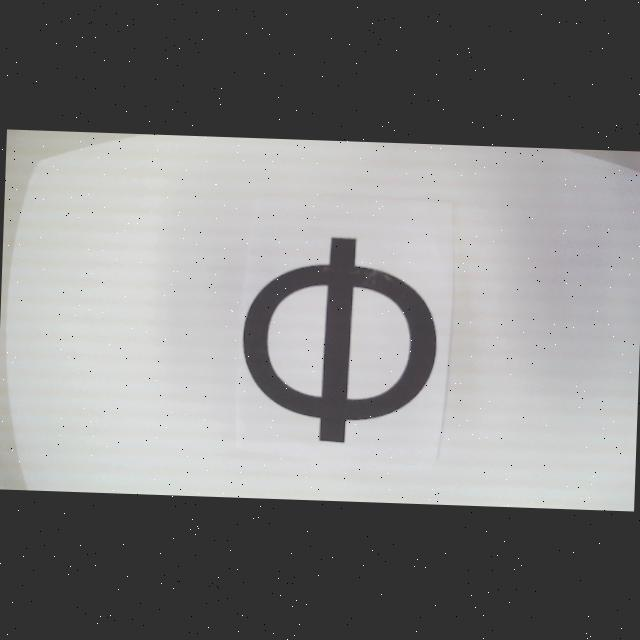PHI: (239, 233, 440, 446)
